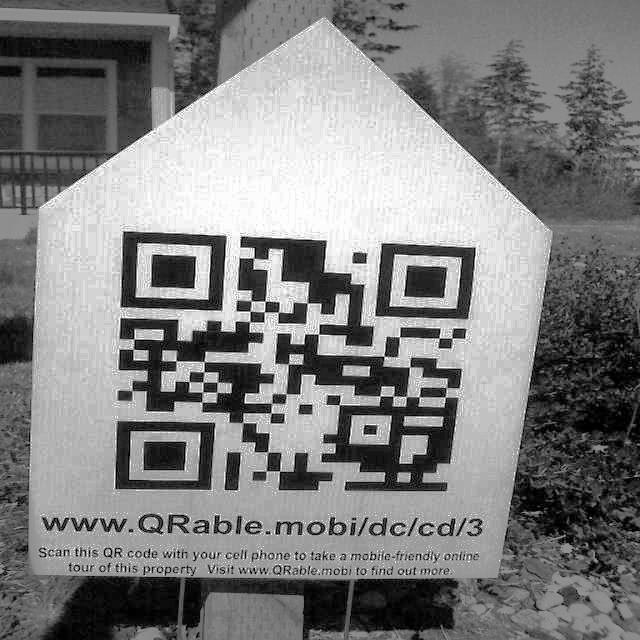qr_code: (115, 232, 475, 491)
